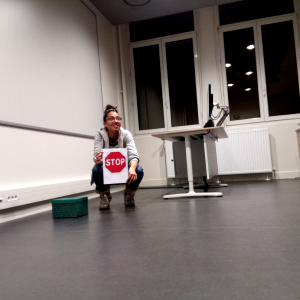stop: (104, 151, 127, 174)
